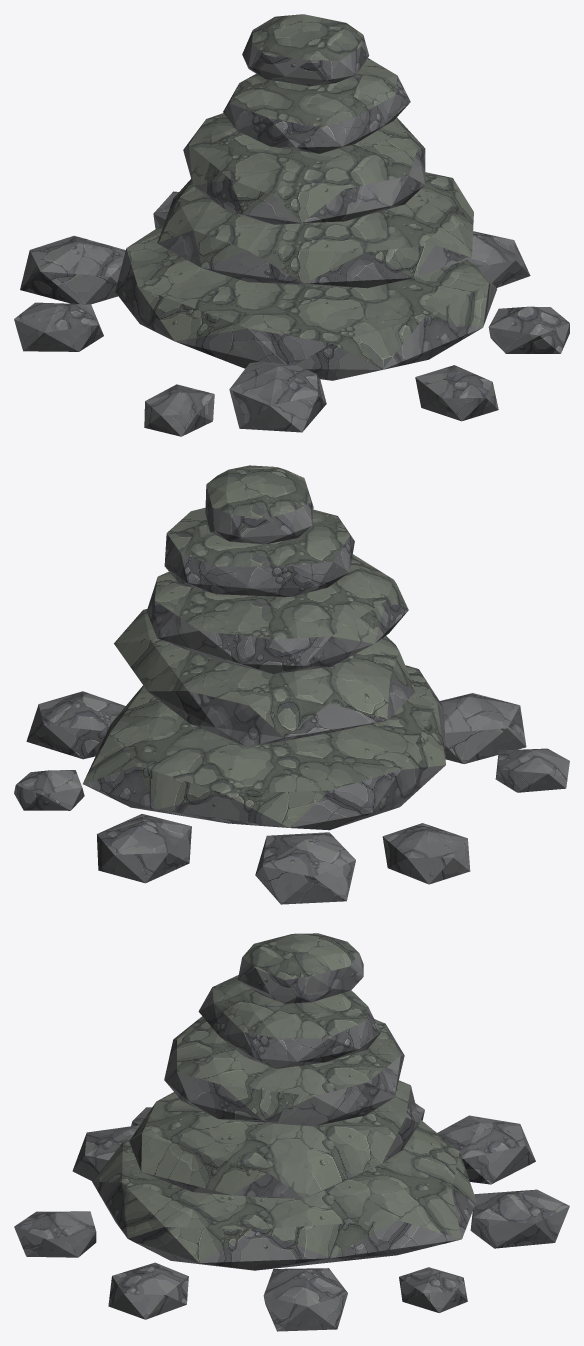
The model's file is small_stone_cairn.glb.
The picture shows the model from 3 angles, top to bottom: view 1: azimuth 30°, elevation 25°; view 2: azimuth 150°, elevation 25°; view 3: azimuth 270°, elevation 25°; orthographic projection. The views are drawn at different scales.
Parts seen in each view (by area): view 1: StoneCairn; view 2: StoneCairn; view 3: StoneCairn.
Part boxes in pixels (x1=…): StoneCairn: x1=14, y1=14, x2=569, y2=436; StoneCairn: x1=14, y1=465, x2=569, y2=904; StoneCairn: x1=14, y1=933, x2=569, y2=1331.
Bounding box in the file's own units: 1.68 × 1.03 × 1.8.
Materials: 2 (2 with a texture image).
